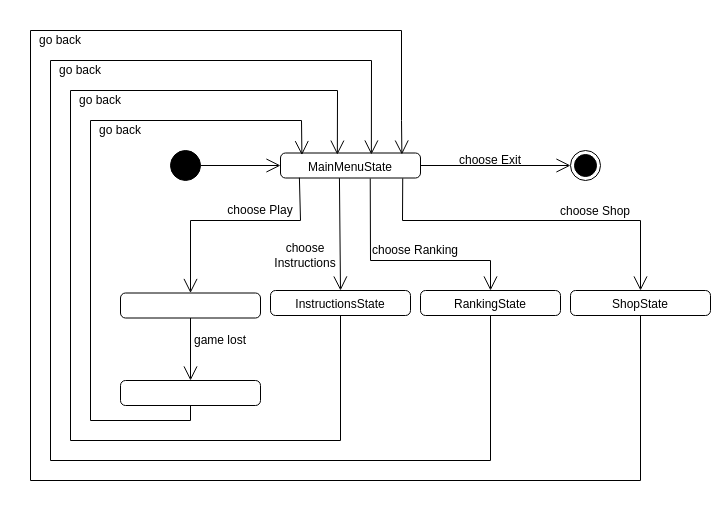
Image size: 728x512. Some labels were removed from this diagram. Each missing label, with the centre of its shape:
GameOverState: (x=190, y=393)
GameState: (x=190, y=305)
